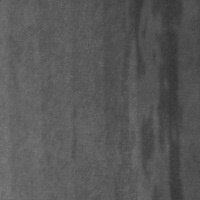inclusion: (138, 1, 185, 198), (127, 1, 150, 82), (66, 106, 83, 163)
